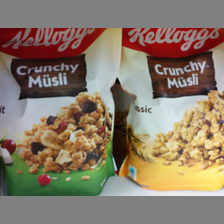cereal: (1, 28, 123, 196), (122, 28, 224, 191)
